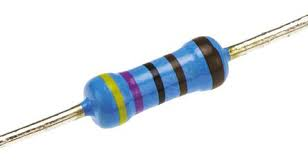resistor: (65, 19, 246, 150)
